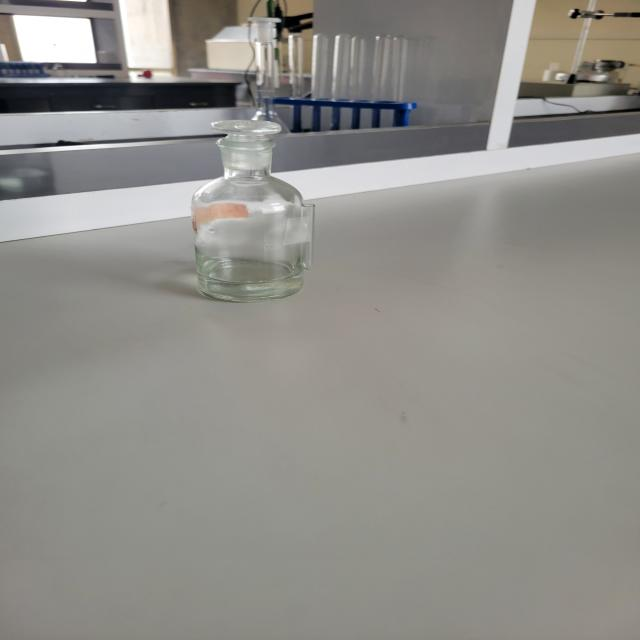Reagent_Bottle: (151, 90, 343, 320)
